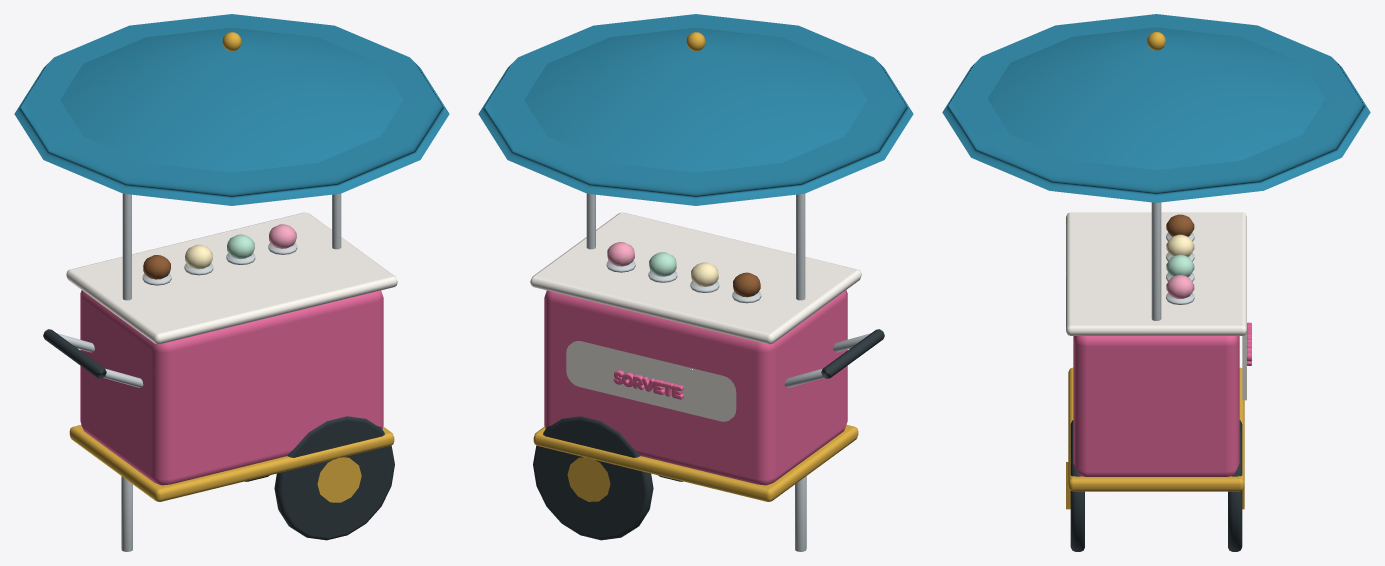
Rendered from ice-cream-cart.fbx.
3 renders of one model, left to right at view 1: azimuth 30°, elevation 25°; view 2: azimuth 150°, elevation 25°; view 3: azimuth 270°, elevation 25°, orthographic.
Visible parts, largest first — view 1: Body; view 2: Body; view 3: Body.
Part boxes in pixels (x1,y1,x2,y2): Body: [14, 14, 449, 551]; Body: [478, 14, 913, 551]; Body: [942, 14, 1370, 551].
Bounding box in the file's own units: 1.8 × 2.24 × 1.8.
